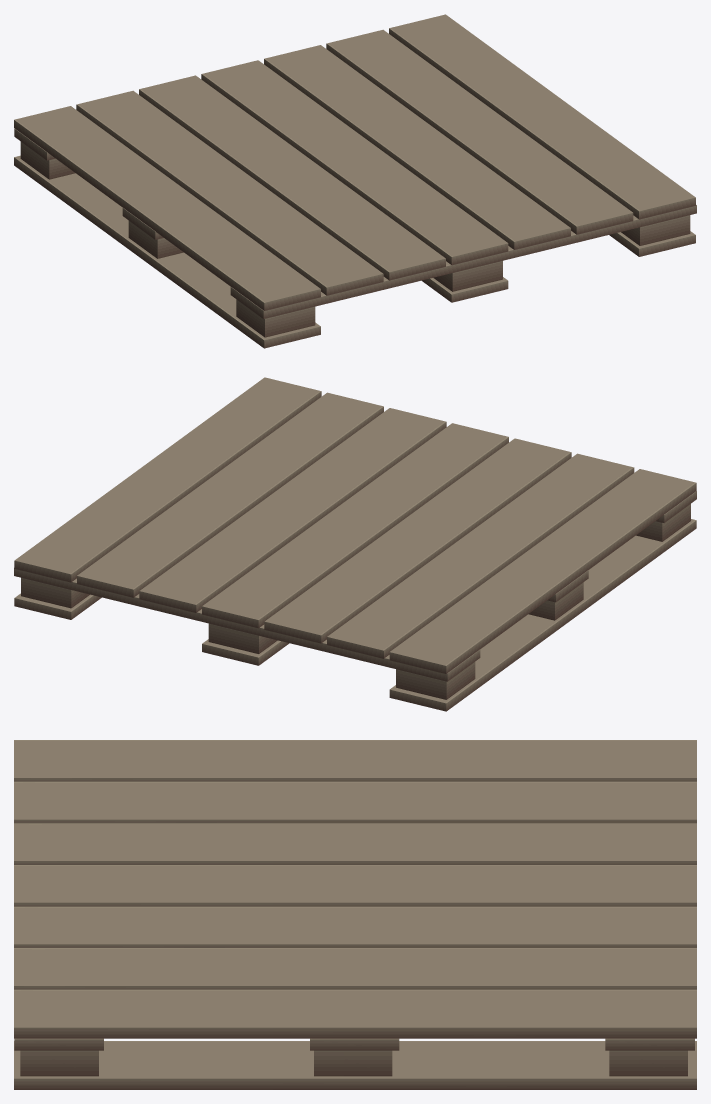
File: DL_Obj_Level3_PaletSingle.fbx
3 renders of one model, top to bottom at view 1: azimuth 30°, elevation 25°; view 2: azimuth 150°, elevation 25°; view 3: azimuth 270°, elevation 25°, orthographic. The views are drawn at different scales.
Visible parts, largest first — view 1: Level3_PaletSingle; view 2: Level3_PaletSingle; view 3: Level3_PaletSingle.
Part boxes in pixels (x1,y1,x2,y2): Level3_PaletSingle: (14,14,696,348); Level3_PaletSingle: (14,377,696,711); Level3_PaletSingle: (14,740,696,1089).
Bounding box in the file's own units: 100 × 10.07 × 100.
